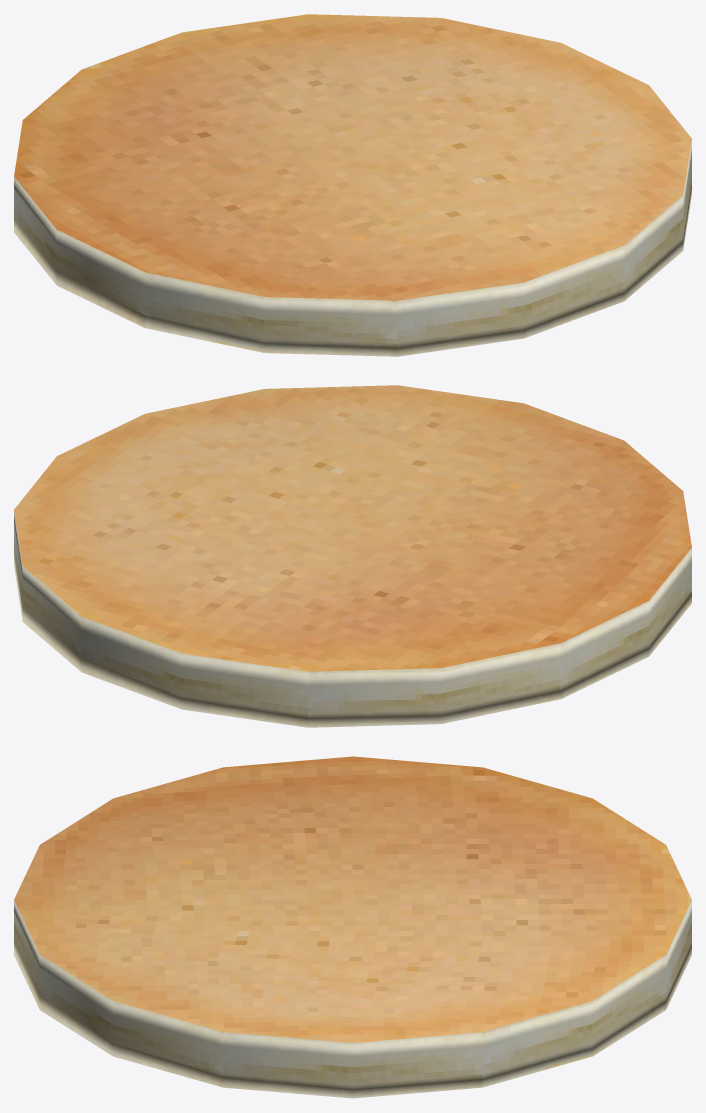
File: NewPancake.fbx
3 views of the same model, one above another, from view 1: azimuth 30°, elevation 25°; view 2: azimuth 150°, elevation 25°; view 3: azimuth 270°, elevation 25° (orthographic).
Visible parts, largest first — view 1: Cylinder; view 2: Cylinder; view 3: Cylinder.
Boxes of the visible parts, x1,y1,x2,y2 form: Cylinder: (14, 14, 691, 356); Cylinder: (14, 385, 691, 727); Cylinder: (14, 756, 691, 1098).
Bounding box in the file's own units: 29.46 × 2.66 × 29.46.
2 materials, 2 textured.
